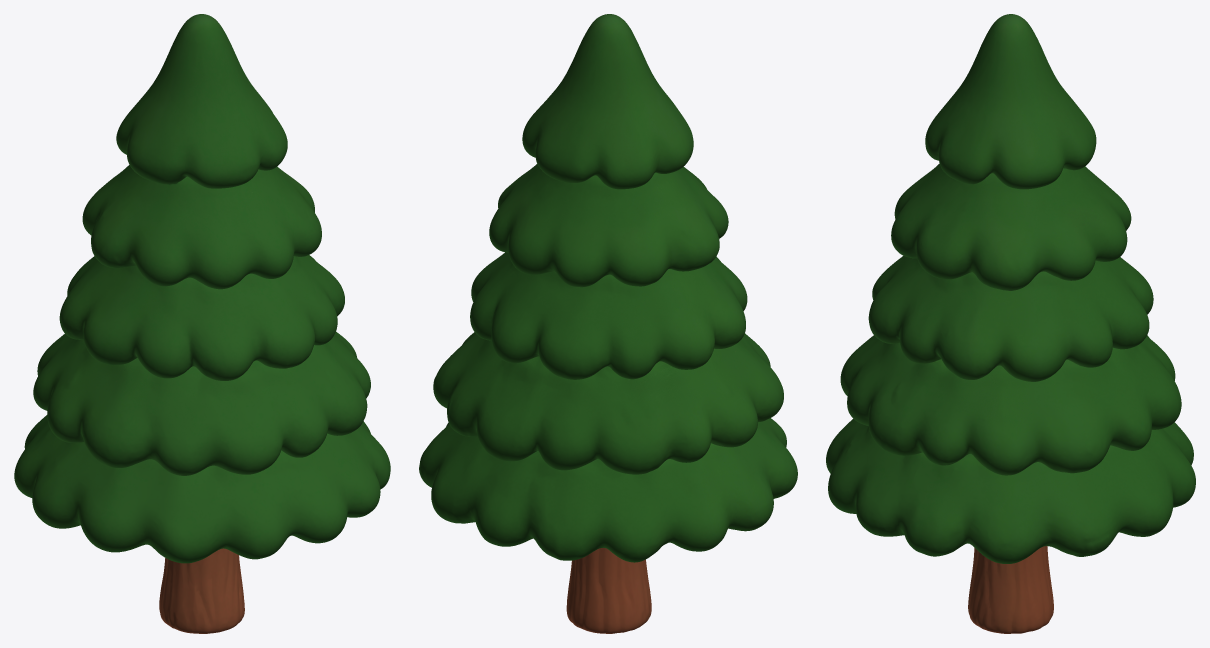
Rendered from Tanne.glb.
The picture shows the model from 3 angles, left to right: view 1: azimuth 30°, elevation 25°; view 2: azimuth 150°, elevation 25°; view 3: azimuth 270°, elevation 25°; orthographic projection.
Size of the model in its own units: 1.06 by 1.9 by 1.05.
Materials: 1 (1 with a texture image).
